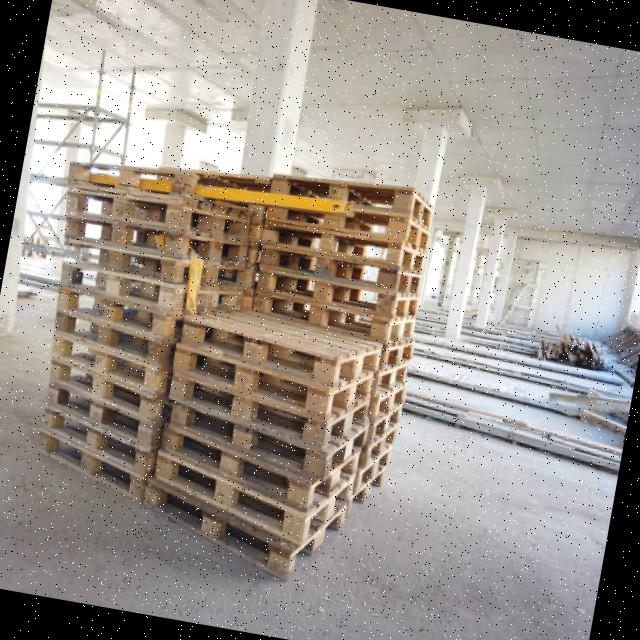Wooden-Pallets: (29, 161, 438, 573), (138, 450, 360, 549), (158, 388, 374, 486), (152, 421, 364, 517), (175, 295, 387, 389), (164, 335, 383, 421), (159, 370, 373, 451), (248, 239, 432, 314), (252, 217, 438, 278), (38, 326, 170, 404), (32, 354, 169, 426), (32, 376, 161, 452), (27, 400, 154, 476), (43, 308, 171, 372), (52, 259, 188, 317), (53, 208, 195, 262), (65, 163, 198, 216), (56, 237, 190, 289), (44, 290, 176, 342), (64, 180, 192, 232)
